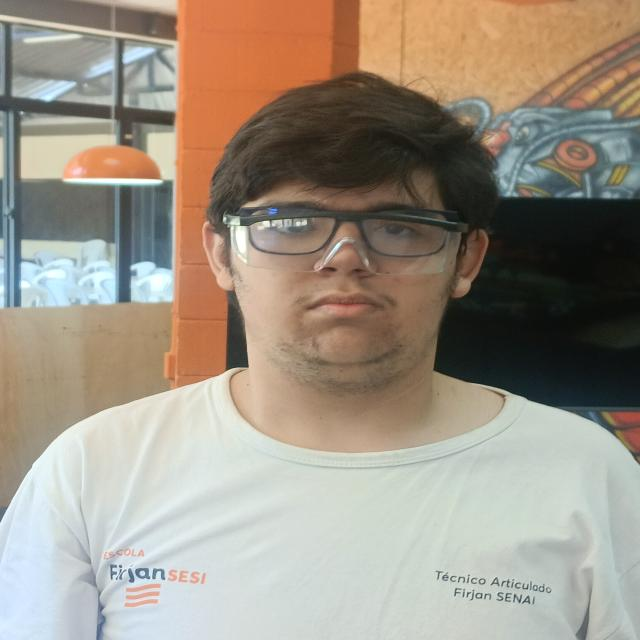oculos-epi: (227, 205, 463, 275)
